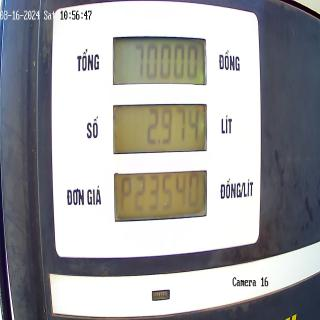screen: (111, 31, 209, 228)
